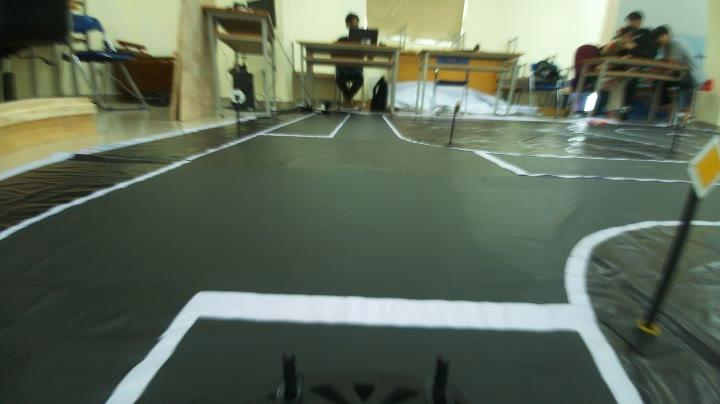priority: (689, 136, 720, 204)
